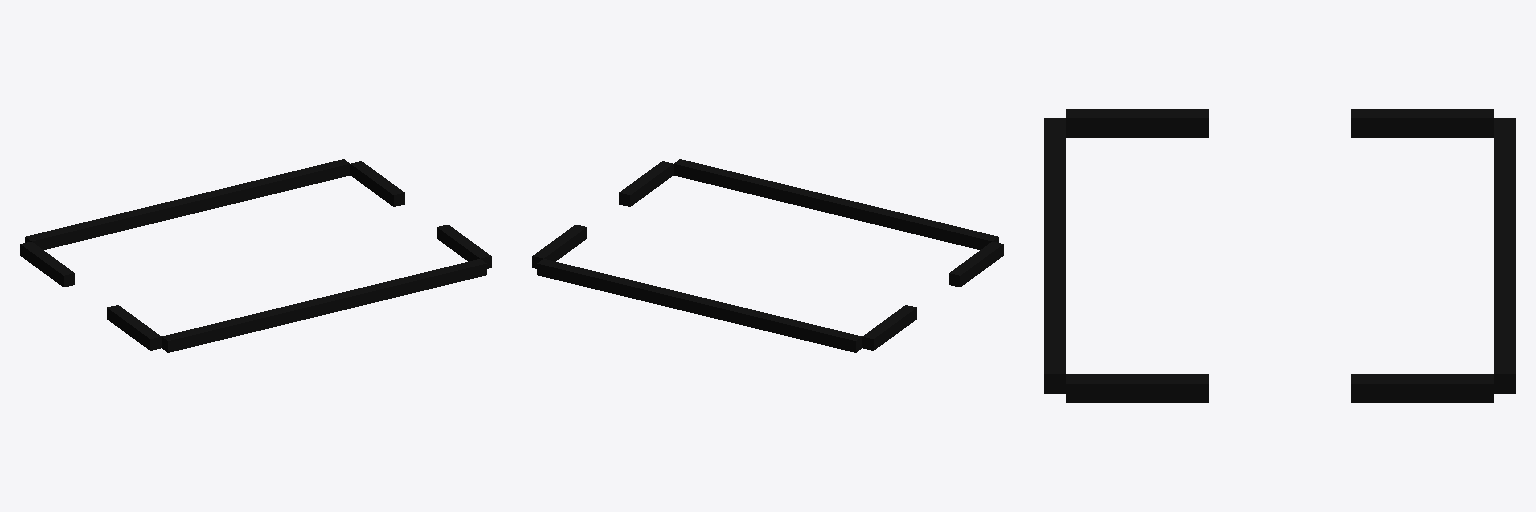
URDF robot description (walls):
<?xml version="1.0" ?>
<!-- =================================================================================== -->
<!-- |    This document was autogenerated by xacro from [local-path]/catkin_ws/src/rktl_3/rktl_sim/urdf/walls.urdf.xacro | -->
<!-- |    EDITING THIS FILE BY HAND IS NOT RECOMMENDED                                 | -->
<!-- =================================================================================== -->
<robot name="walls">
  <!-- Colors -->
  <material name="gray">
    <color rgba="0.1 0.1 0.1 1"/>
  </material>
  <!-- Base frame of walls -->
  <link name="base_link">
    <inertial>
      <mass value="0"/>
      <inertia ixx="0.2" ixy="0" ixz="0" iyy="0.2" iyz="0.0" izz="0.2"/>
    </inertial>
  </link>
  <link name="left_sidewall_link">
    <visual>
      <geometry>
        <box size="4.25 0.15 0.15"/>
      </geometry>
      <material name="gray"/>
    </visual>
    <collision>
      <geometry>
        <box size="4.25 0.15 0.15"/>
      </geometry>
    </collision>
  </link>
  <joint name="left_sidewall_joint" type="fixed">
    <origin rpy="0 0 0" xyz="0 1.575 0"/>
    <parent link="base_link"/>
    <child link="left_sidewall_link"/>
  </joint>
  <link name="right_sidewall_link">
    <visual>
      <geometry>
        <box size="4.25 0.15 0.15"/>
      </geometry>
      <material name="gray"/>
    </visual>
    <collision>
      <geometry>
        <box size="4.25 0.15 0.15"/>
      </geometry>
    </collision>
  </link>
  <joint name="right_sidewall_joint" type="fixed">
    <origin rpy="0 0 0" xyz="0 -1.575 0"/>
    <parent link="base_link"/>
    <child link="right_sidewall_link"/>
  </joint>
  <link name="back_left_backwall_link">
    <visual>
      <geometry>
        <box size="0.15 1.0 0.15"/>
      </geometry>
      <material name="gray"/>
    </visual>
    <collision>
      <geometry>
        <box size="0.15 1.0 0.15"/>
      </geometry>
    </collision>
  </link>
  <joint name="back_left_backwall_joint" type="fixed">
    <origin rpy="0 0 0" xyz="-2.2 -1.0 0"/>
    <parent link="base_link"/>
    <child link="back_left_backwall_link"/>
  </joint>
  <link name="back_right_backwall_link">
    <visual>
      <geometry>
        <box size="0.15 1.0 0.15"/>
      </geometry>
      <material name="gray"/>
    </visual>
    <collision>
      <geometry>
        <box size="0.15 1.0 0.15"/>
      </geometry>
    </collision>
  </link>
  <joint name="back_right_backwall_joint" type="fixed">
    <origin rpy="0 0 0" xyz="-2.2 1.0 0"/>
    <parent link="base_link"/>
    <child link="back_right_backwall_link"/>
  </joint>
  <link name="front_left_backwall_link">
    <visual>
      <geometry>
        <box size="0.15 1.0 0.15"/>
      </geometry>
      <material name="gray"/>
    </visual>
    <collision>
      <geometry>
        <box size="0.15 1.0 0.15"/>
      </geometry>
    </collision>
  </link>
  <joint name="front_left_backwall_joint" type="fixed">
    <origin rpy="0 0 0" xyz="2.2 -1.0 0"/>
    <parent link="base_link"/>
    <child link="front_left_backwall_link"/>
  </joint>
  <link name="front_right_backwall_link">
    <visual>
      <geometry>
        <box size="0.15 1.0 0.15"/>
      </geometry>
      <material name="gray"/>
    </visual>
    <collision>
      <geometry>
        <box size="0.15 1.0 0.15"/>
      </geometry>
    </collision>
  </link>
  <joint name="front_right_backwall_joint" type="fixed">
    <origin rpy="0 0 0" xyz="2.2 1.0 0"/>
    <parent link="base_link"/>
    <child link="front_right_backwall_link"/>
  </joint>
</robot>

--- Facts derived from the render (not from the file) ---
3 views of the same robot in one strip: view 1: azimuth 30°, elevation 25°; view 2: azimuth 150°, elevation 25°; view 3: azimuth 270°, elevation 25° (orthographic).
Robot: walls — 7 links, 6 joints (6 fixed); root link base_link; default pose: every joint at zero.
Visible links, largest first — view 1: right_sidewall_link, left_sidewall_link, back_left_backwall_link, front_right_backwall_link, back_right_backwall_link, front_left_backwall_link; view 2: left_sidewall_link, right_sidewall_link, back_right_backwall_link, front_left_backwall_link, back_left_backwall_link, front_right_backwall_link; view 3: left_sidewall_link, right_sidewall_link, back_left_backwall_link, back_right_backwall_link, front_left_backwall_link, front_right_backwall_link.
Link boxes in pixels (x1=…): right_sidewall_link: x1=162, y1=259, x2=486, y2=352; left_sidewall_link: x1=25, y1=159, x2=349, y2=249; back_left_backwall_link: x1=107, y1=305, x2=161, y2=350; front_right_backwall_link: x1=350, y1=161, x2=404, y2=206; back_right_backwall_link: x1=20, y1=242, x2=74, y2=286; front_left_backwall_link: x1=437, y1=225, x2=491, y2=268; left_sidewall_link: x1=537, y1=259, x2=861, y2=352; right_sidewall_link: x1=674, y1=159, x2=998, y2=249; back_right_backwall_link: x1=862, y1=305, x2=916, y2=350; front_left_backwall_link: x1=619, y1=161, x2=673, y2=206; back_left_backwall_link: x1=949, y1=242, x2=1003, y2=286; front_right_backwall_link: x1=532, y1=225, x2=586, y2=268; left_sidewall_link: x1=1494, y1=118, x2=1515, y2=393; right_sidewall_link: x1=1044, y1=118, x2=1065, y2=393; back_left_backwall_link: x1=1066, y1=109, x2=1208, y2=137; back_right_backwall_link: x1=1351, y1=109, x2=1493, y2=137; front_left_backwall_link: x1=1066, y1=374, x2=1208, y2=402; front_right_backwall_link: x1=1351, y1=374, x2=1493, y2=402.
Bounding box of the posed robot: 4.55 × 3.3 × 0.15 m (x, y, z).
Geometry: primitives only (box / cylinder / sphere), no mesh files.